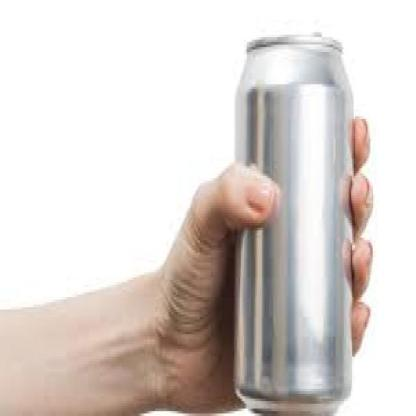Can: (233, 34, 356, 416)
